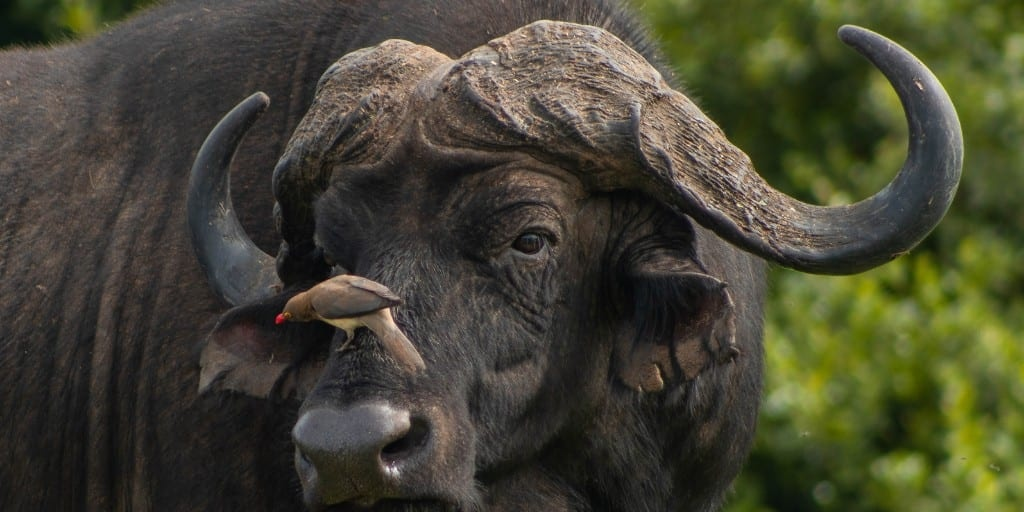buffalo: (5, 3, 968, 503)
